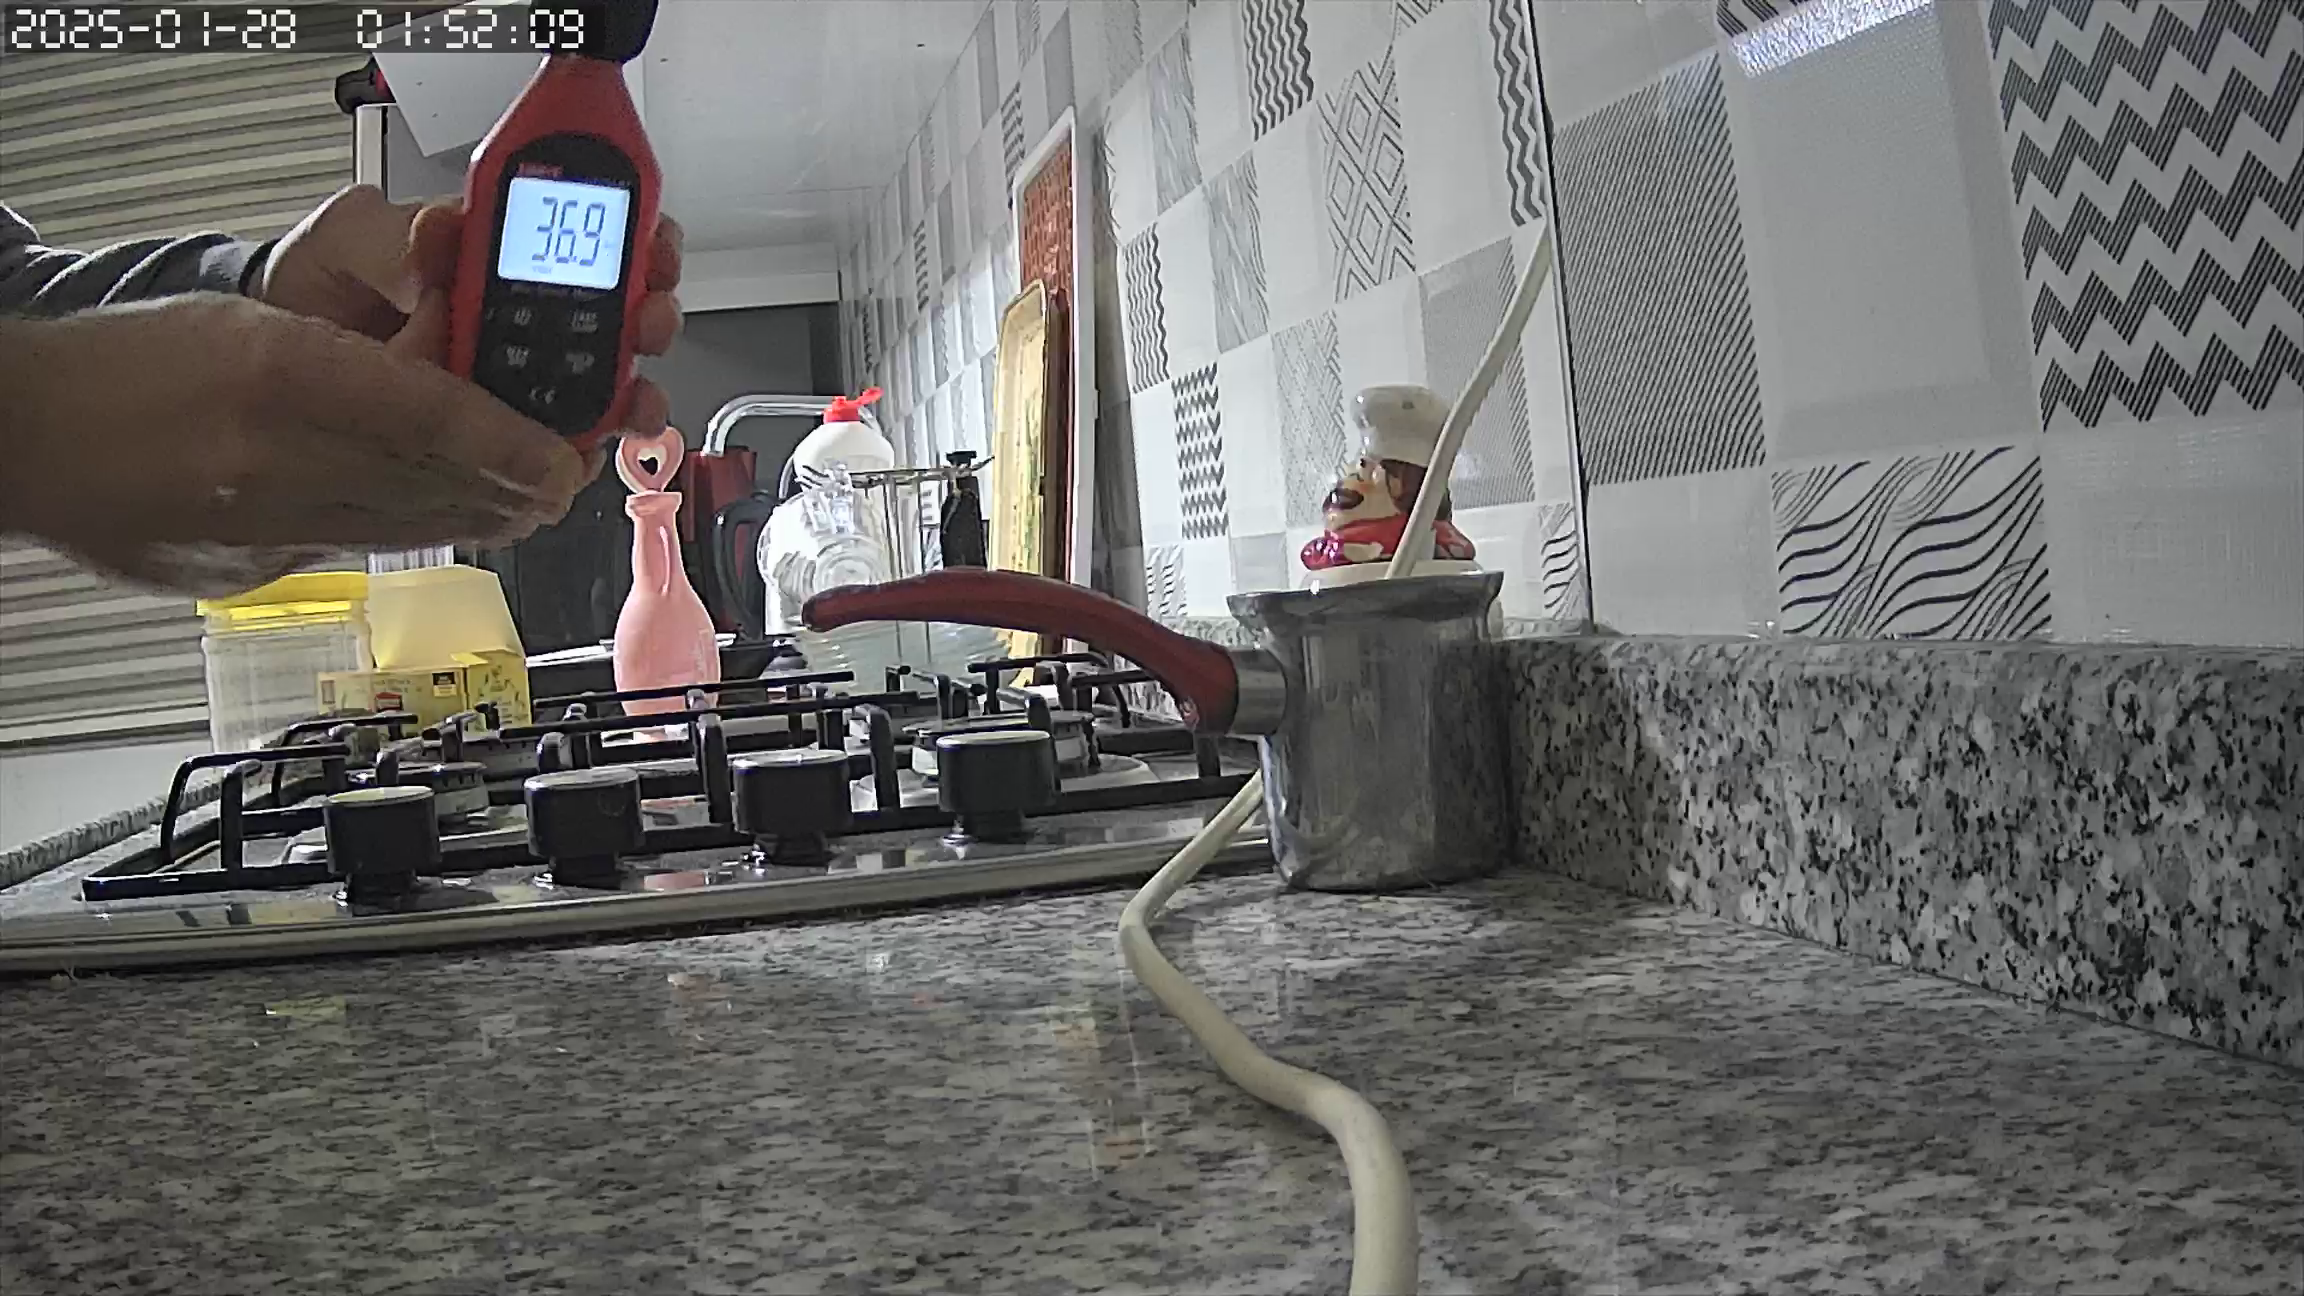screen: (498, 176, 630, 293)
